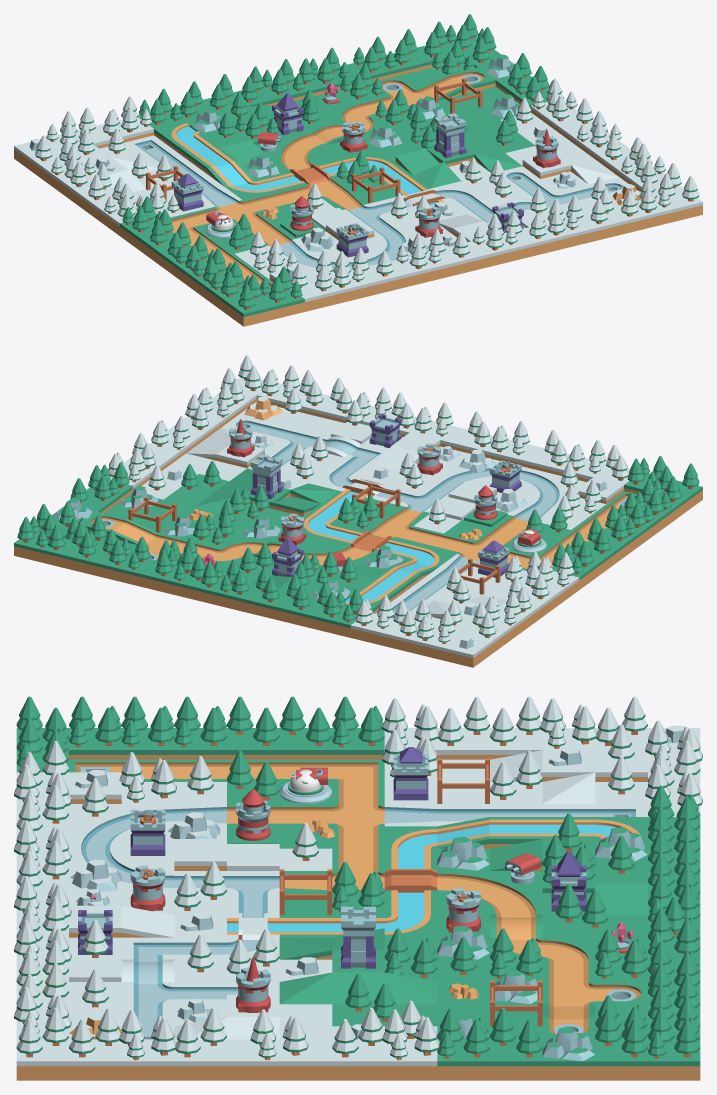
File: SC_Tower_Defense.fbx
3 views of the same model, one above another, from view 1: azimuth 30°, elevation 25°; view 2: azimuth 150°, elevation 25°; view 3: azimuth 270°, elevation 25° (orthographic). The views are drawn at different scales.
Parts seen in each view (by area): view 1: SM_Corner_Large, SM_Snow_Corner_Large.001, SM_Tower_Square_02, SM_Tower_Square_01, SM_River_Slope, SM_Trees_Quad.010, SM_Trees_Quad.013, SM_Trees_Quad.006, SM_Tower_Square_03, SM_Trees_Quad.002, SM_Trees_Quad.015, SM_Snow_Tree_Quad.008 (+95 smaller); view 2: SM_Snow_Corner_Large, SM_Corner_Large, SM_Snow_Corner_Large.001, SM_Tower_Square_02, SM_Tower_Square_04, SM_Trees_Quad, SM_Trees_Quad.015, SM_Trees_Quad.001, SM_Trees_Quad.007, SM_Tower_Square_01, SM_Trees_Quad.003, SM_Trees_Quad.014 (+104 smaller); view 3: SM_Corner_Large, SM_Snow_Corner_Large, SM_Snow_Corner_Large.001, SM_Tower_Square_01, SM_Snow_Tile.005, SM_Trees_Quad.004, SM_Trees_Quad.011, SM_Snow_Tree_Quad.011, SM_Trees_Quad.008, SM_Trees_Quad.005, SM_Trees_Quad.012, SM_Trees_Quad.009 (+189 smaller).
Boxes of the visible parts, x1,y1,x2,y2 form: SM_Corner_Large: [256, 131, 346, 171]; SM_Snow_Corner_Large.001: [365, 229, 429, 265]; SM_Tower_Square_02: [272, 93, 303, 135]; SM_Tower_Square_01: [171, 173, 203, 211]; SM_River_Slope: [207, 160, 254, 186]; SM_Trees_Quad.010: [340, 63, 383, 99]; SM_Trees_Quad.013: [260, 266, 302, 302]; SM_Trees_Quad.006: [262, 59, 304, 94]; SM_Tower_Square_03: [336, 223, 368, 257]; SM_Trees_Quad.002: [235, 103, 278, 138]; SM_Trees_Quad.015: [353, 36, 396, 72]; SM_Snow_Tree_Quad.008: [396, 232, 440, 269]; SM_Snow_Corner_Large: [497, 469, 586, 509]; SM_Corner_Large: [300, 537, 377, 569]; SM_Snow_Corner_Large.001: [436, 454, 531, 494]; SM_Tower_Square_02: [272, 537, 303, 576]; SM_Tower_Square_04: [369, 414, 401, 448]; SM_Trees_Quad: [338, 495, 378, 528]; SM_Trees_Quad.015: [109, 536, 150, 569]; SM_Trees_Quad.001: [193, 511, 234, 545]; SM_Trees_Quad.007: [155, 547, 194, 581]; SM_Tower_Square_01: [478, 540, 509, 577]; SM_Trees_Quad.003: [230, 485, 269, 519]; SM_Trees_Quad.014: [323, 588, 363, 622]; SM_Corner_Large: [437, 871, 542, 917]; SM_Snow_Corner_Large: [69, 804, 174, 850]; SM_Snow_Corner_Large.001: [69, 848, 174, 892]; SM_Tower_Square_01: [393, 747, 428, 800]; SM_Snow_Tile.005: [174, 839, 226, 870]; SM_Trees_Quad.004: [648, 1008, 700, 1058]; SM_Trees_Quad.011: [69, 696, 121, 747]; SM_Snow_Tree_Quad.011: [250, 1009, 308, 1060]; SM_Trees_Quad.008: [121, 696, 174, 747]; SM_Trees_Quad.005: [437, 1008, 489, 1058]; SM_Trees_Quad.012: [332, 696, 384, 747]; SM_Trees_Quad.009: [174, 696, 226, 747].
Size of the model in its own units: 30.27 by 2.81 by 26.19.
